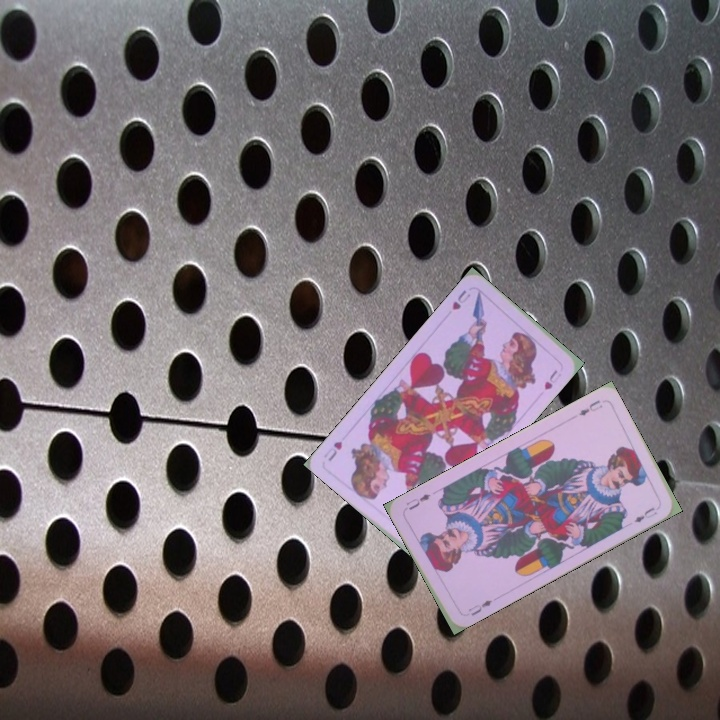EU: (464, 596, 495, 618), (575, 396, 605, 418)
HU: (448, 286, 473, 313)
